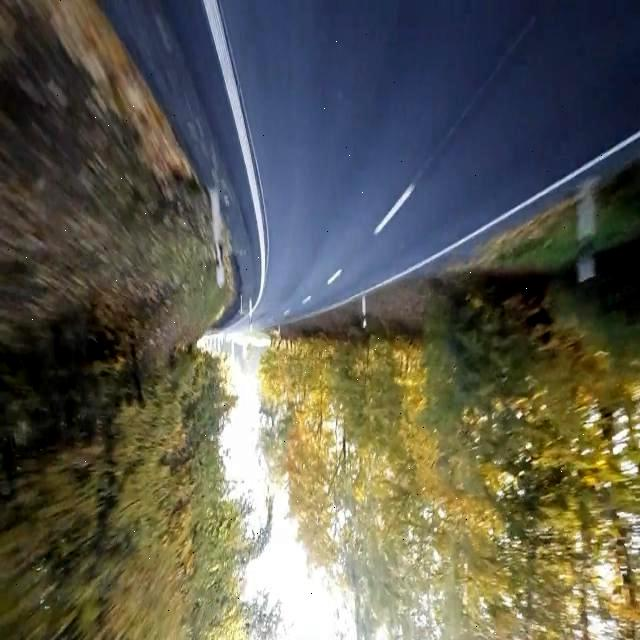lane: (101, 0, 260, 296), (202, 0, 266, 309), (375, 183, 415, 235)
road: (101, 1, 640, 327)
